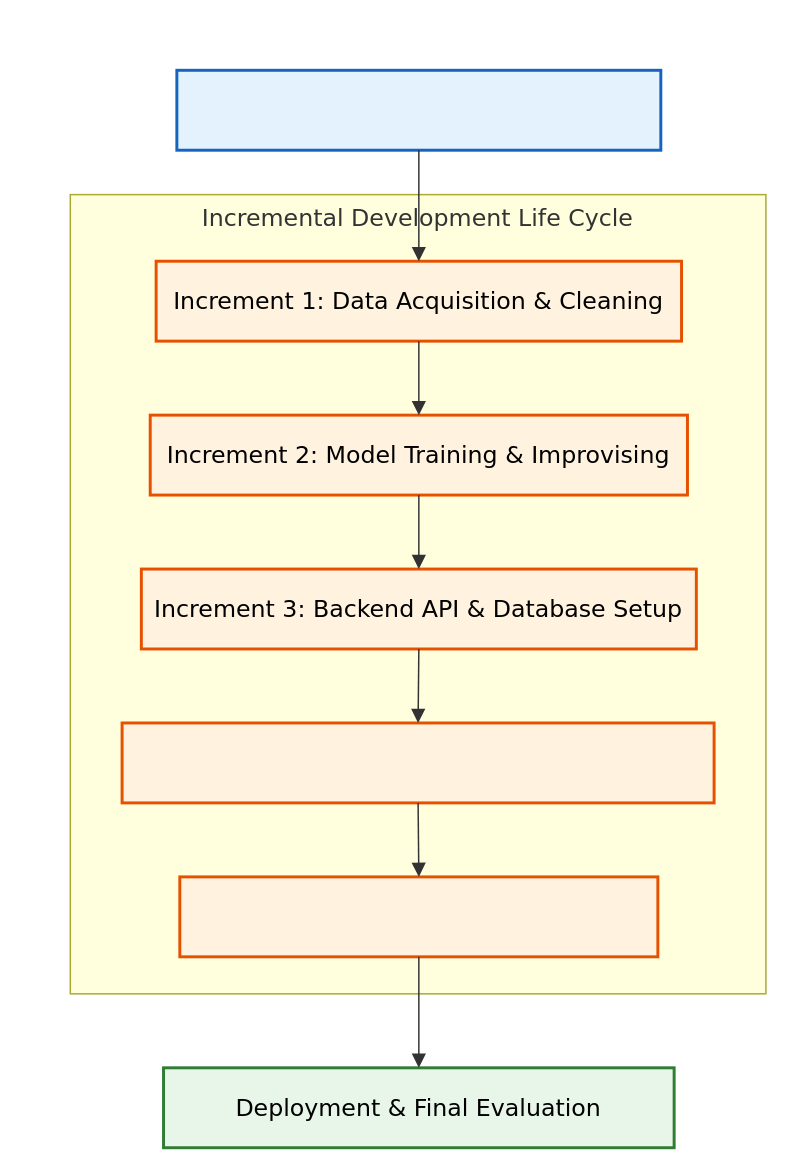
The diagram is 792 pixels wide and 1174 high, and some of its shapes have lost their labels. Here are the shapes that lost their labels. From the top down, the centre of each, then its label:
the point at 418,109: Initial Requirements & System Design
the point at 417,762: Increment 4: Frontend Dashboard Development
the point at 418,916: Increment 5: Full System Integration
